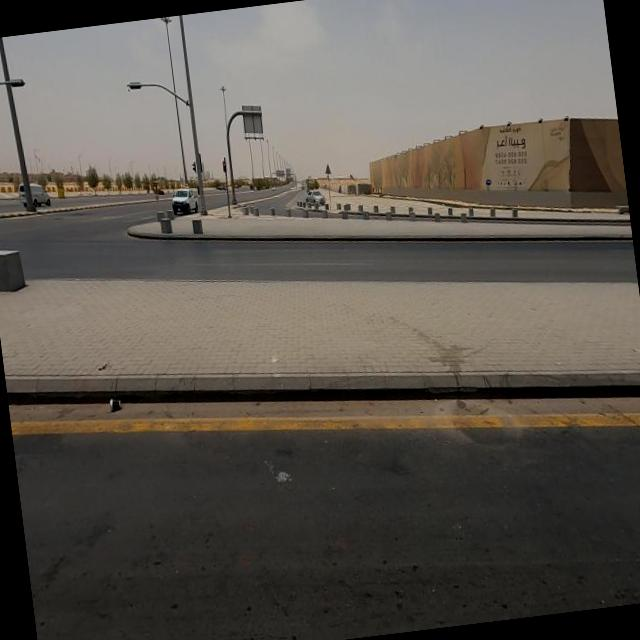debris: (65, 340, 163, 450)
